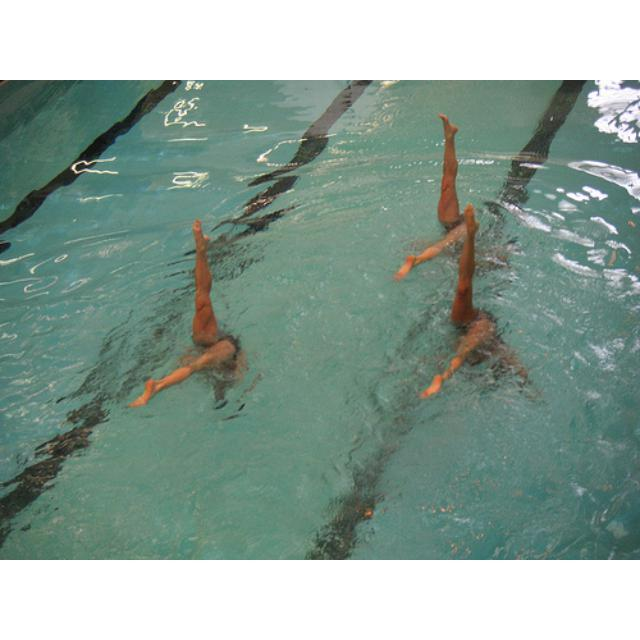human: (419, 202, 534, 400), (130, 220, 247, 410), (390, 109, 480, 280)
